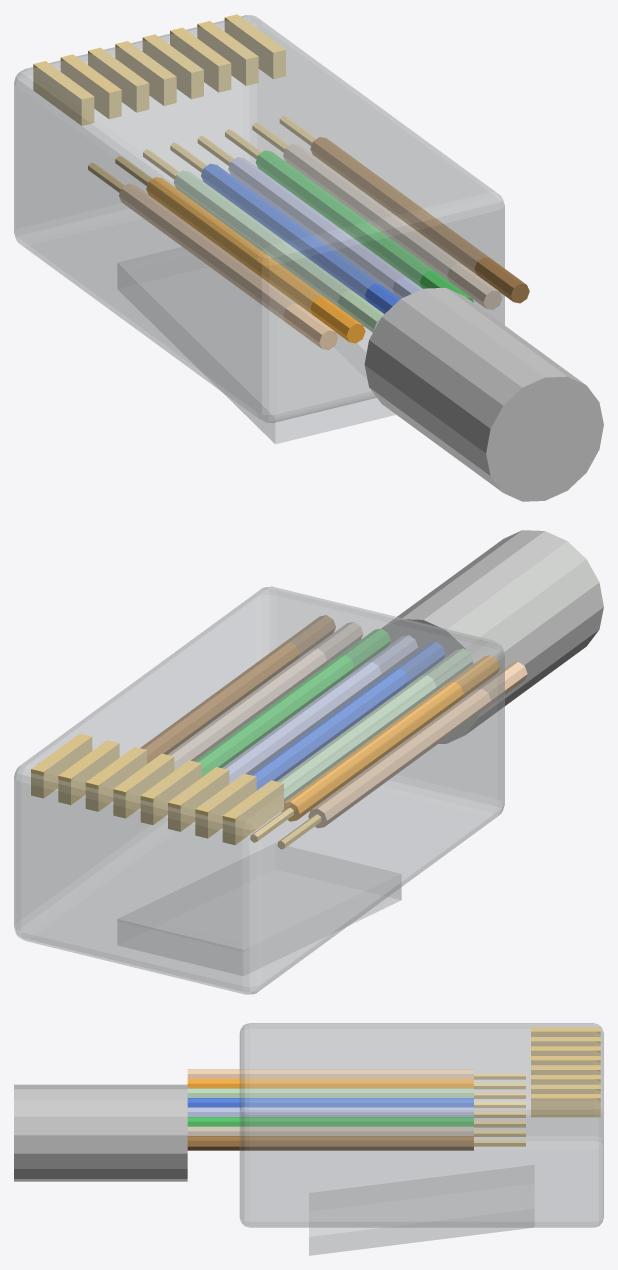
File: cable_rj45_plug_bad_crimp.glb
The picture shows the model from 3 angles, top to bottom: view 1: azimuth 30°, elevation 25°; view 2: azimuth 150°, elevation 25°; view 3: azimuth 270°, elevation 25°; orthographic projection. The views are drawn at different scales.
Visible parts, largest first — view 1: plug_body, variant_bad_crimp_mesh, latch; view 2: plug_body, variant_bad_crimp_mesh, latch; view 3: plug_body, variant_bad_crimp_mesh, latch.
Part boxes in pixels (box(x1,y1,x2,y2)): plug_body: box(14, 14, 504, 423); variant_bad_crimp_mesh: box(88, 116, 603, 501); latch: box(117, 247, 395, 444); plug_body: box(14, 586, 504, 994); variant_bad_crimp_mesh: box(140, 530, 603, 849); latch: box(117, 843, 401, 975); plug_body: box(239, 1023, 603, 1227); variant_bad_crimp_mesh: box(14, 1069, 525, 1181); latch: box(309, 1165, 534, 1255).
Bounding box in the file's own units: 0.0117 × 0.0109 × 0.034.
